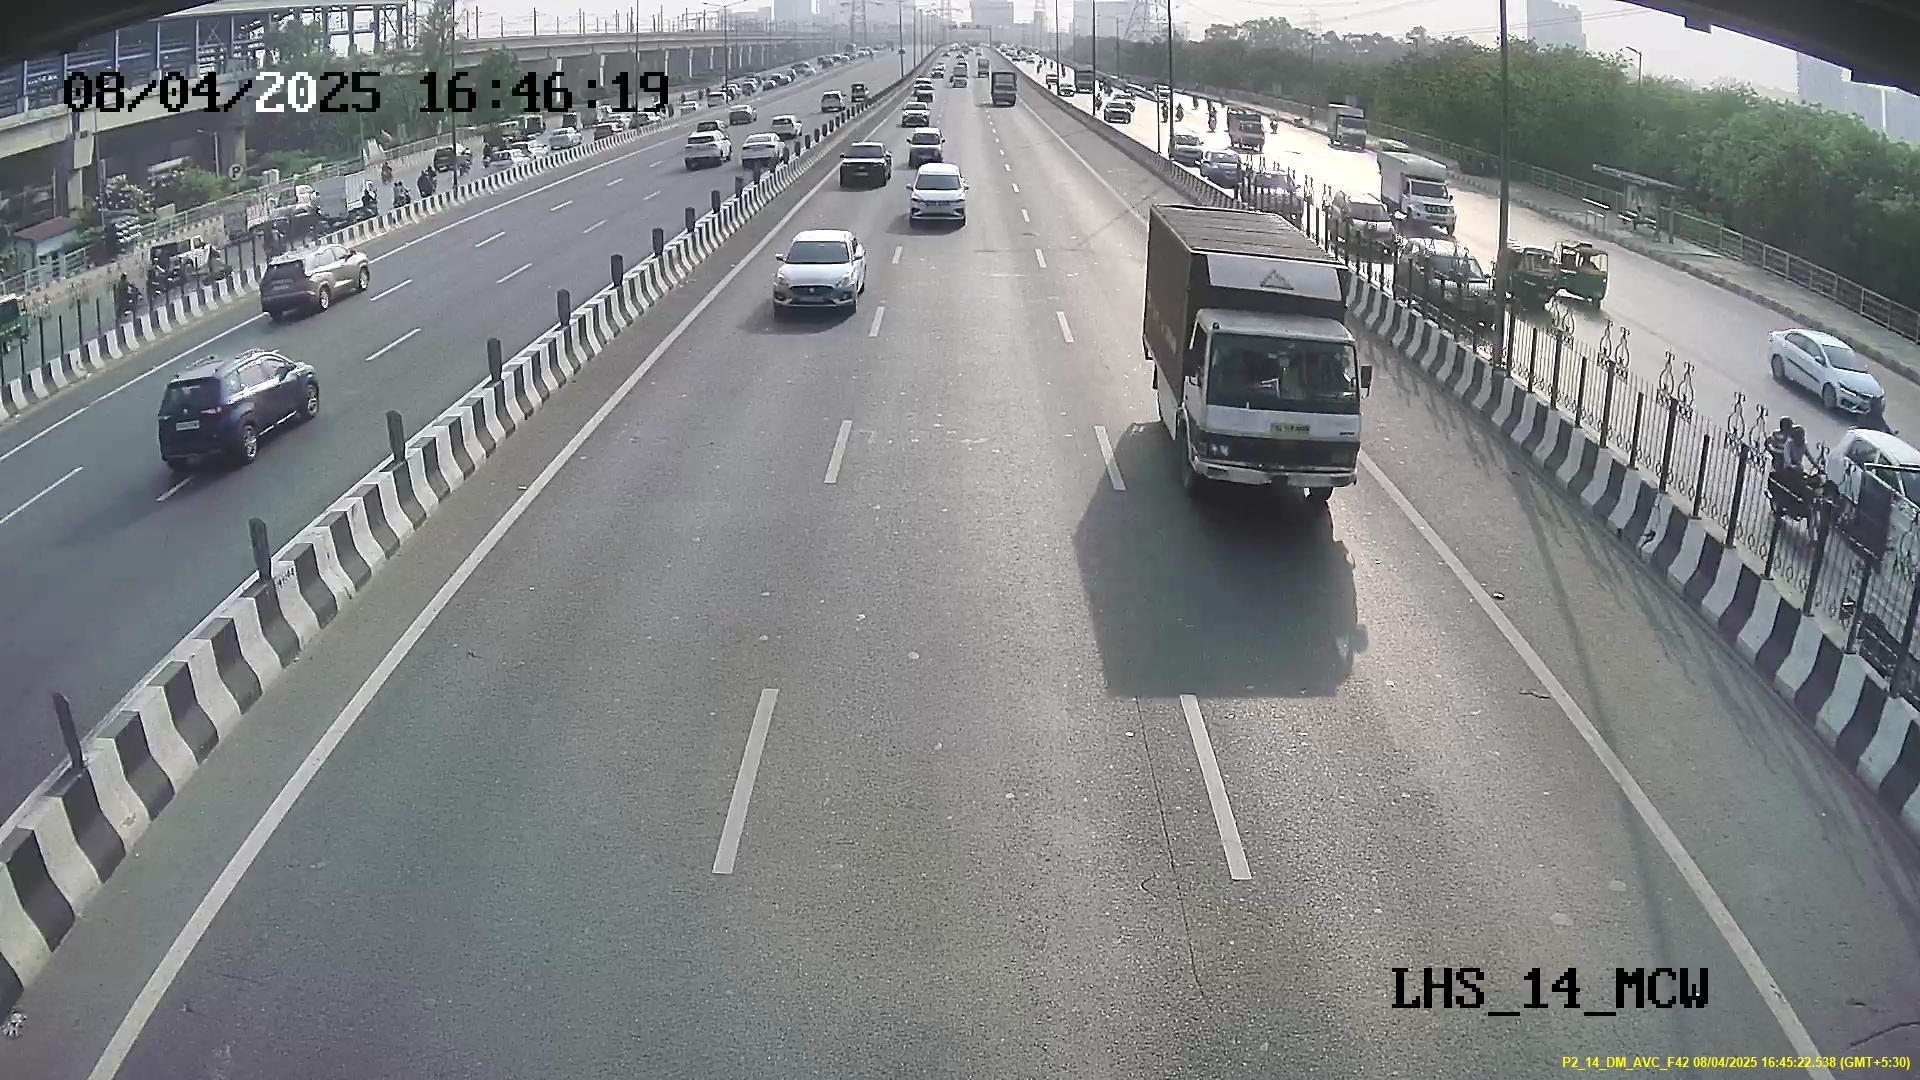car: (775, 229, 864, 315)
lcv: (1184, 320, 1366, 496)
